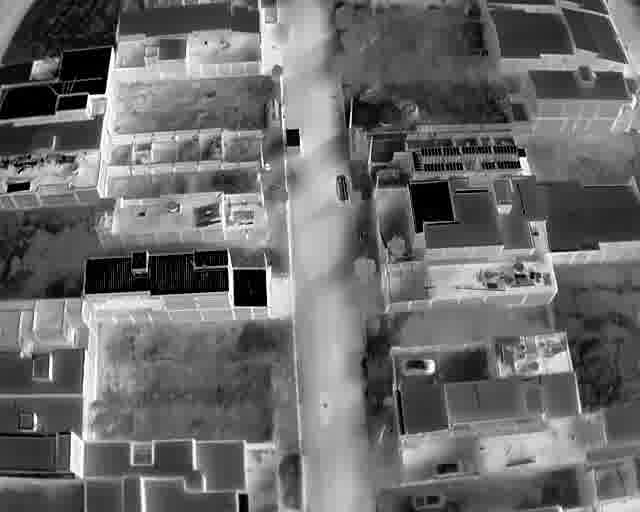car: (430, 459, 474, 479), (398, 358, 435, 377), (411, 491, 446, 511), (336, 173, 349, 202)
